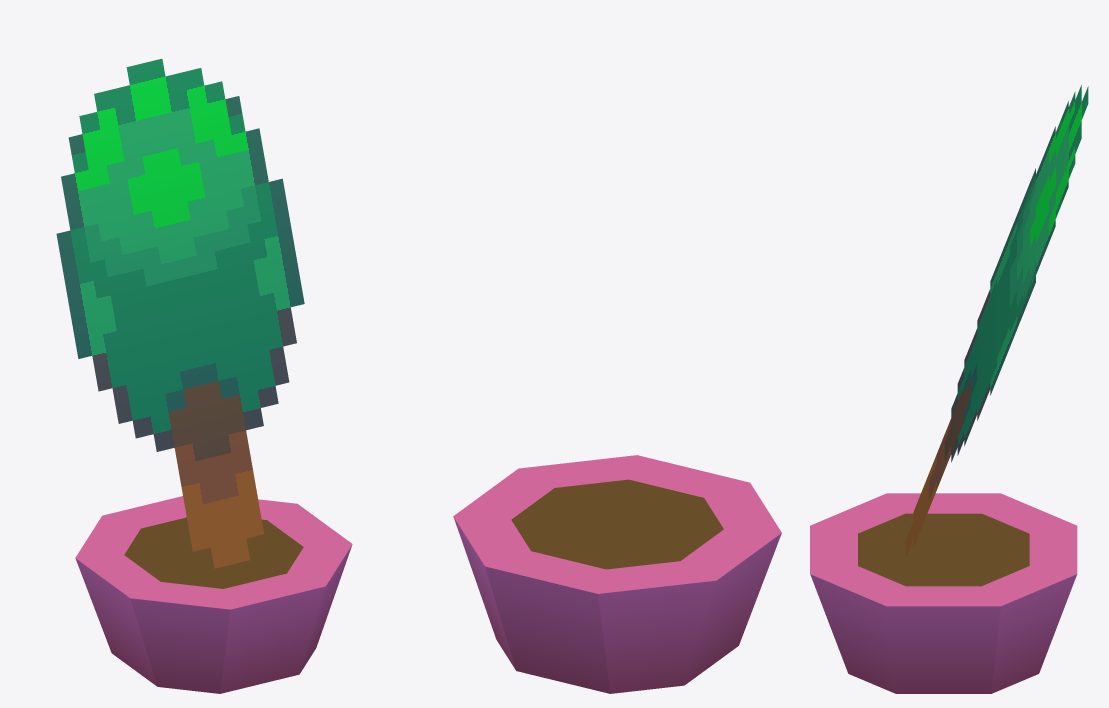
3 renders of one model, left to right at view 1: azimuth 30°, elevation 25°; view 2: azimuth 150°, elevation 25°; view 3: azimuth 270°, elevation 25°, orthographic. The views are drawn at different scales.
Parts seen in each view (by area): view 1: plant01; view 2: plant01; view 3: plant01.
Part boxes in pixels (left/top/right/bottom): plant01: left=56, top=58, right=352, bottom=693; plant01: left=453, top=455, right=781, bottom=693; plant01: left=810, top=85, right=1088, bottom=693.
Size of the model in its own units: 1 by 2.08 by 0.9324.
Materials: 1 (1 with a texture image).
